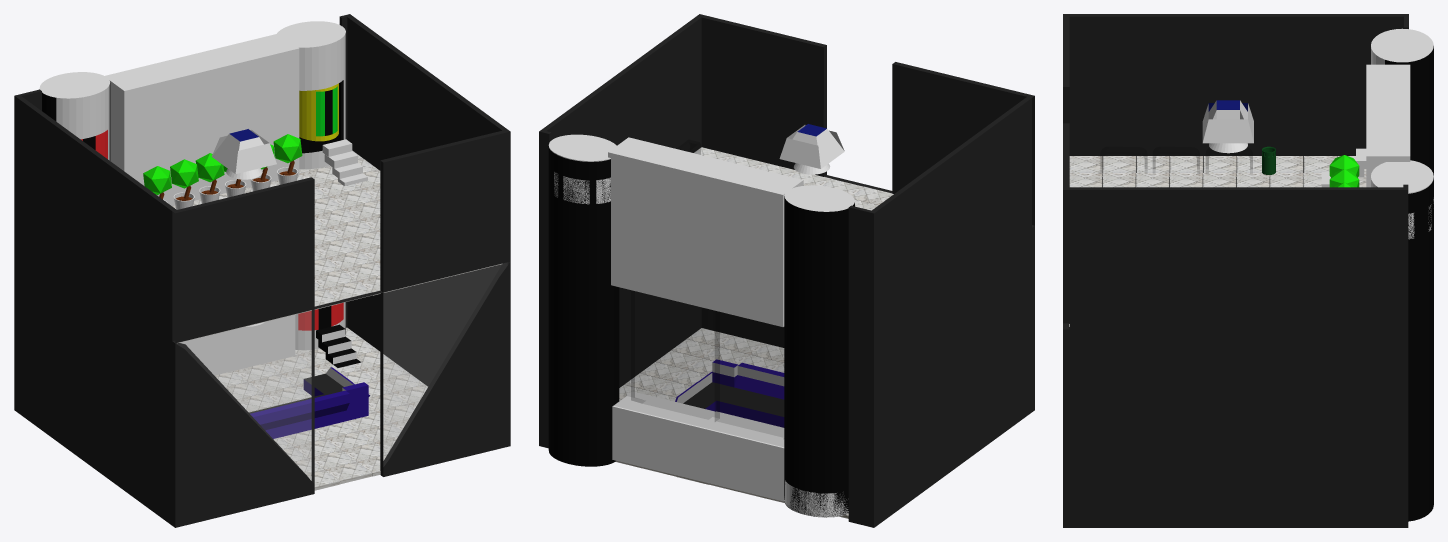
Rendered from Asansör.fbx.
3 views of the same model, side by side, from view 1: azimuth 30°, elevation 25°; view 2: azimuth 150°, elevation 25°; view 3: azimuth 270°, elevation 25° (orthographic). The views are drawn at different scales.
Visible parts, largest first — view 1: Cube.001, Duvar, Mermer.001, Mermer, Asansör Boşluğu, Koltuk2, Asansör boşluğu, Televizyon Altlığı, Lamba.006, Asansör, Merdiven, Merdiven.001 (+4 smaller); view 2: Cube.001, Duvar, Asansör Boşluğu, Asansör boşluğu, Televizyon, Televizyon Altlığı, Mermer.001, Koltuk2, Lamba.006, Mermer; view 3: Cube.001, Asansör Boşluğu, Mermer, Duvar, Asansör boşluğu, Lamba.006, Bank.004, SAKSI.007, Bank.005.
Part boxes in pixels (bbox=[...]): Cube.001: bbox=[14, 14, 510, 527]; Duvar: bbox=[105, 33, 299, 206]; Mermer.001: bbox=[215, 327, 427, 490]; Mermer: bbox=[172, 150, 502, 343]; Asansör Boşluğu: bbox=[277, 21, 345, 350]; Koltuk2: bbox=[249, 367, 369, 438]; Asansör boşluğu: bbox=[39, 72, 110, 160]; Televizyon Altlığı: bbox=[179, 315, 295, 375]; Lamba.006: bbox=[211, 129, 276, 179]; Asansör: bbox=[299, 83, 338, 141]; Merdiven: bbox=[322, 139, 367, 186]; Merdiven.001: bbox=[316, 324, 361, 368]; Cube.001: bbox=[539, 14, 1034, 527]; Duvar: bbox=[608, 137, 803, 326]; Asansör Boşluğu: bbox=[548, 134, 619, 466]; Asansör boşluğu: bbox=[784, 185, 854, 517]; Televizyon: bbox=[614, 286, 783, 439]; Televizyon Altlığı: bbox=[612, 391, 784, 501]; Mermer.001: bbox=[615, 328, 848, 518]; Koltuk2: bbox=[675, 359, 784, 427]; Lamba.006: bbox=[779, 124, 844, 174]; Mermer: bbox=[694, 147, 893, 210]; Cube.001: bbox=[1063, 14, 1408, 527]; Asansör Boşluğu: bbox=[1371, 160, 1433, 521]; Mermer: bbox=[1069, 156, 1366, 326]; Duvar: bbox=[1366, 64, 1410, 187]; Asansör boşluğu: bbox=[1371, 28, 1433, 175]; Lamba.006: bbox=[1202, 100, 1253, 153]; Bank.004: bbox=[1100, 147, 1147, 175]; SAKSI.007: bbox=[1329, 155, 1359, 177]; Bank.005: bbox=[1153, 147, 1199, 169].
Bounding box in the file's own units: 13806 × 12443 × 12295.
